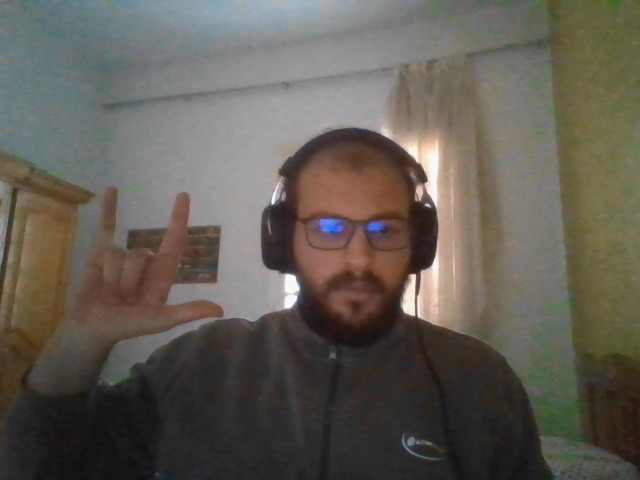I Love You: (74, 186, 222, 337)
